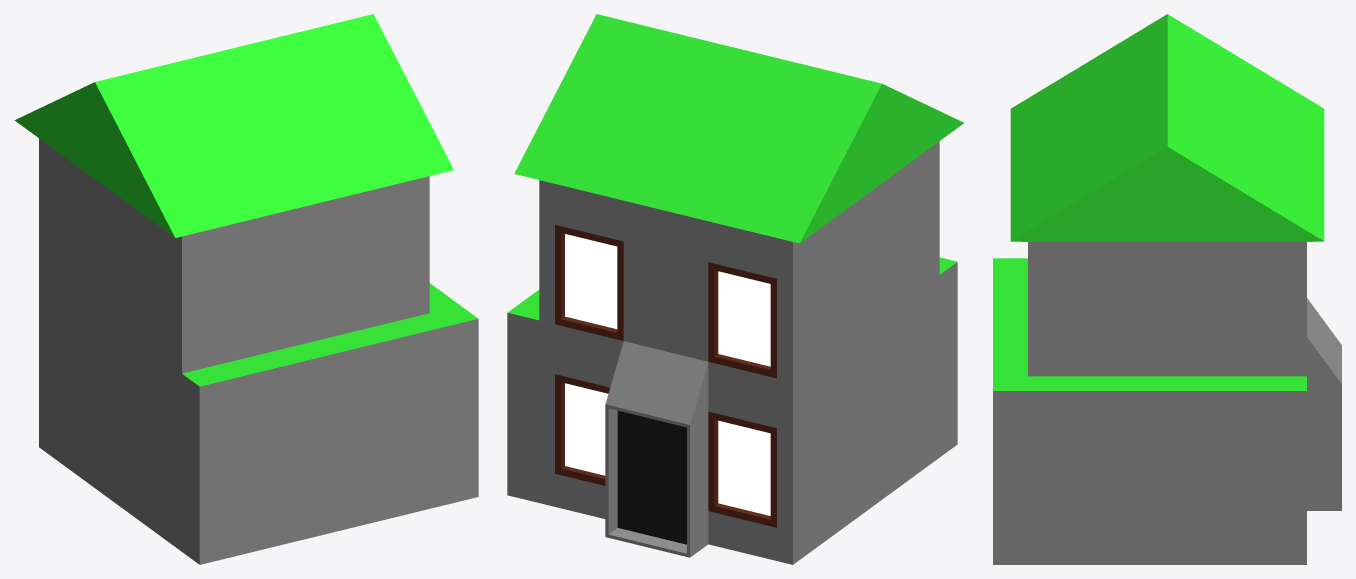
File: ResidenceSmall.fbx
The picture shows the model from 3 angles, left to right: view 1: azimuth 30°, elevation 25°; view 2: azimuth 150°, elevation 25°; view 3: azimuth 270°, elevation 25°; orthographic projection. The views are drawn at different scales.
Parts seen in each view (by area): view 1: MainBuilding; view 2: MainBuilding; view 3: MainBuilding.
Boxes of the visible parts, x1,y1,x2,y2 form: MainBuilding: (14,14,478,564); MainBuilding: (507,14,963,564); MainBuilding: (993,14,1341,564).
Size of the model in its own units: 95 by 130 by 100.
1 material, 1 textured.
